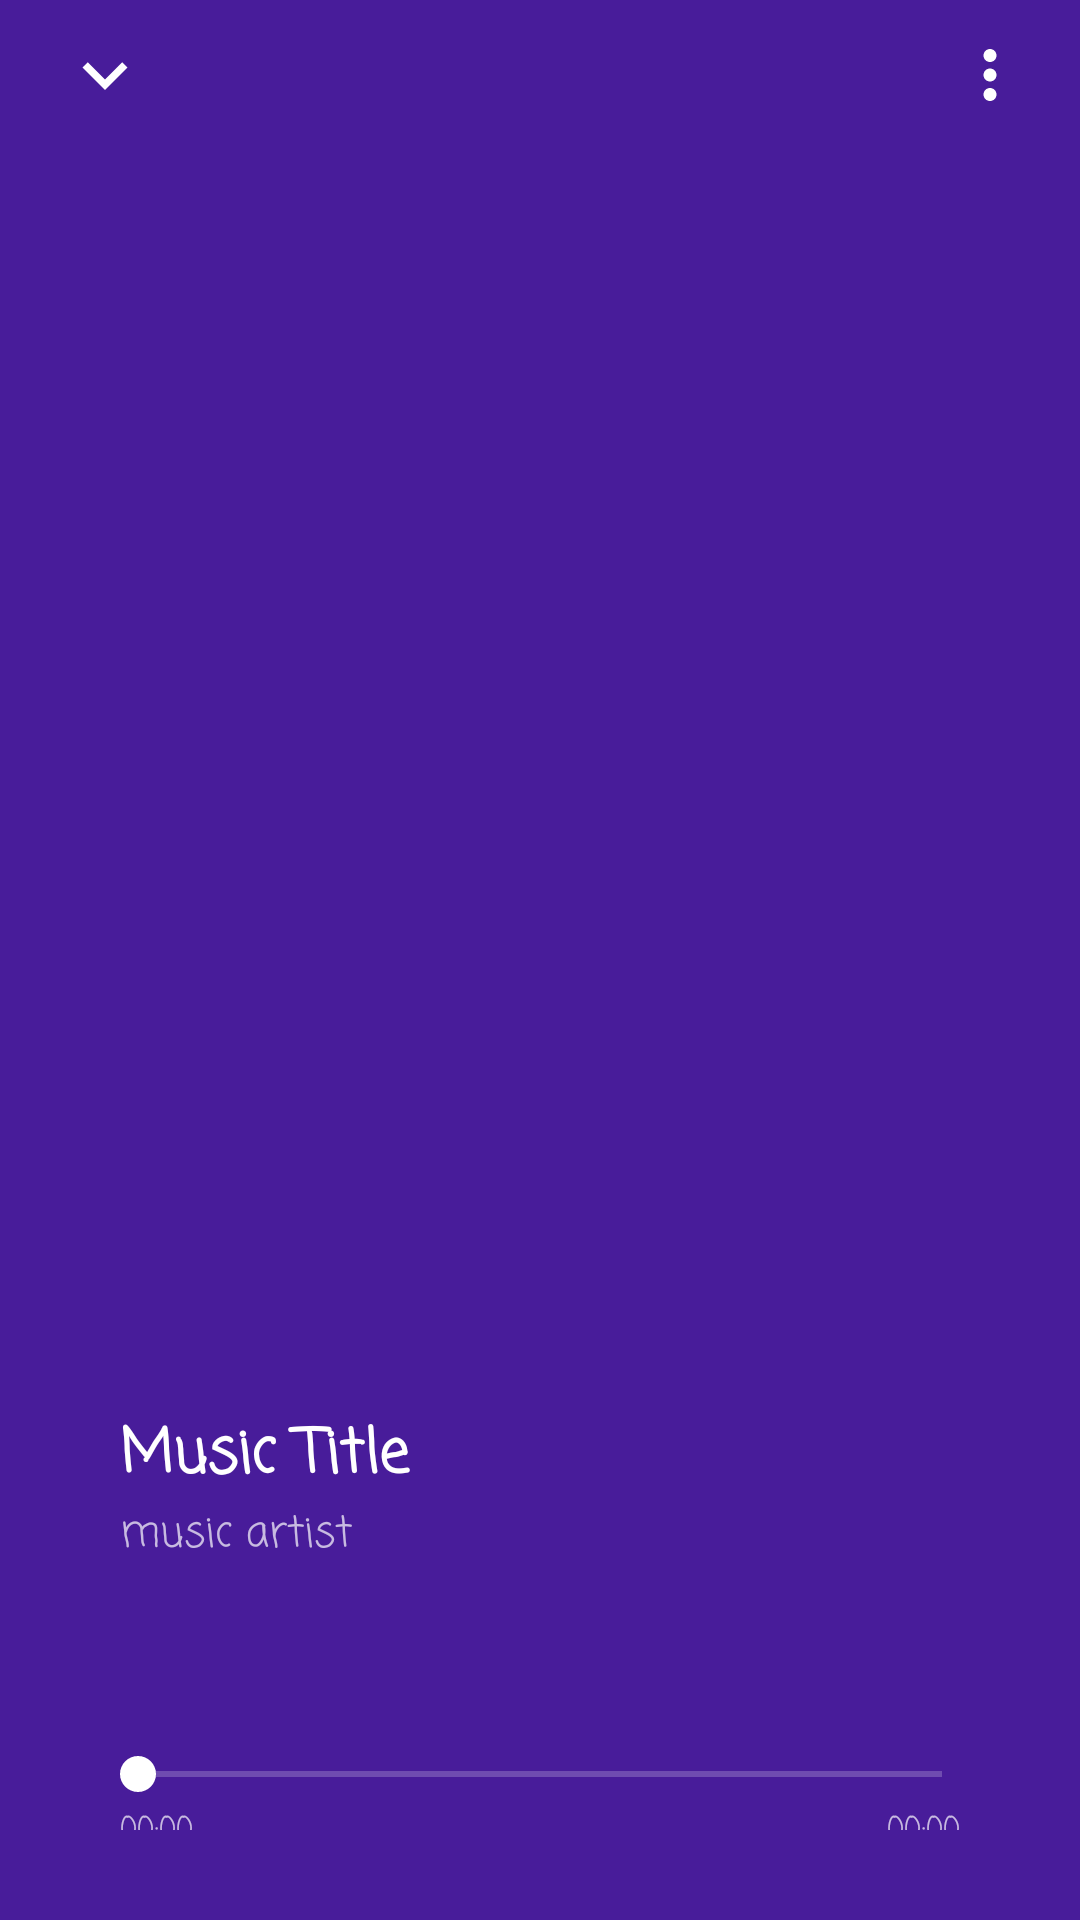

Named icons in this screenshot (1080w x 1920h) and their centers, point (x, y):
arrow down: point (105, 76)
more: point (990, 75)
